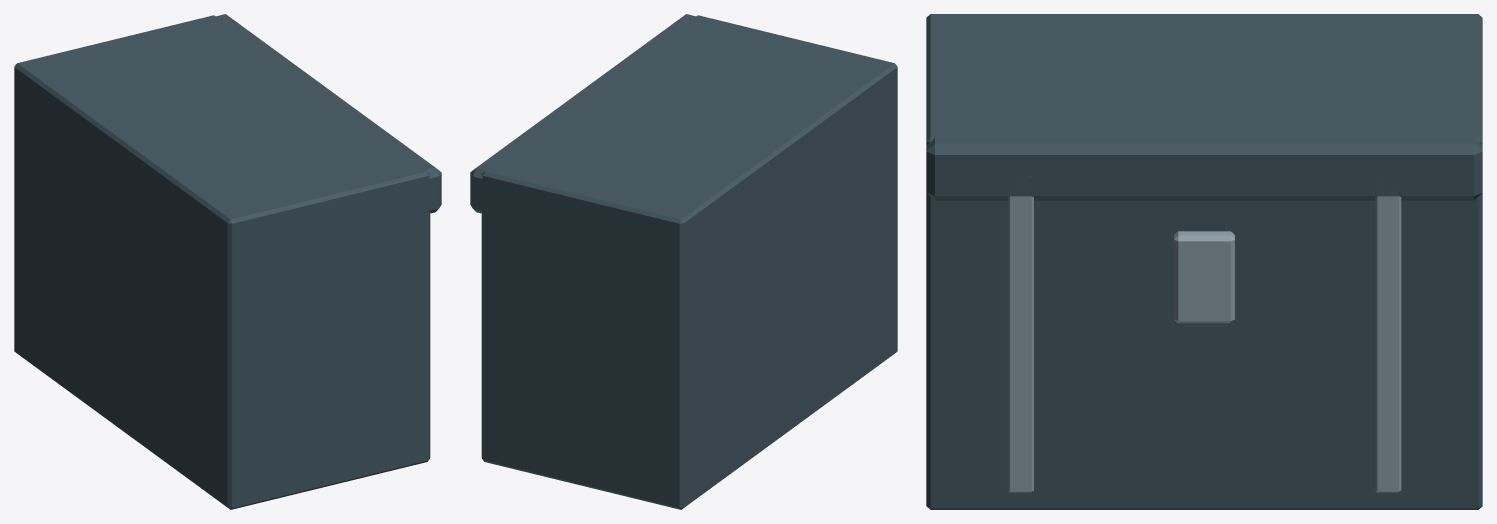
The model's file is coffre_fer.glb.
3 renders of one model, left to right at view 1: azimuth 30°, elevation 25°; view 2: azimuth 150°, elevation 25°; view 3: azimuth 270°, elevation 25°, orthographic. The views are drawn at different scales.
Visible parts, largest first — view 1: coffre_fer; view 2: coffre_fer; view 3: coffre_fer.
Boxes of the visible parts, left/top/right/bottom form: coffre_fer: left=14, top=14, right=441, bottom=509; coffre_fer: left=470, top=14, right=897, bottom=509; coffre_fer: left=926, top=14, right=1482, bottom=509.
Size of the model in its own units: 0.66 by 0.85 by 1.15.
Materials: 1 (1 with a texture image).
